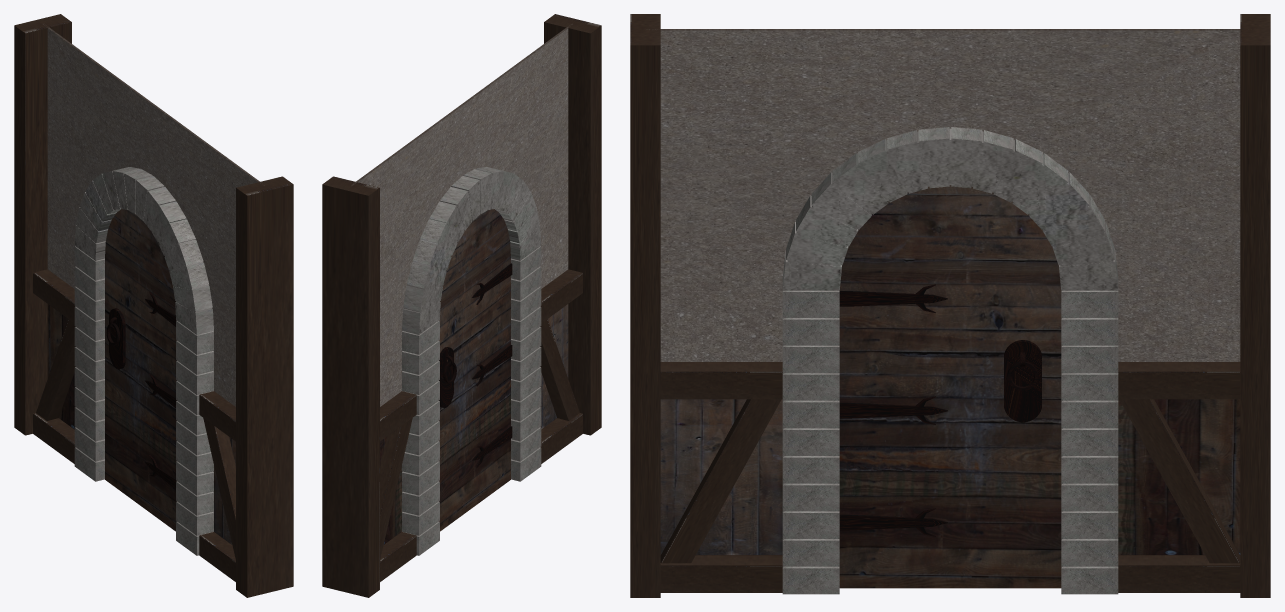
Rendered from OutdoorArchitecture_BasicWall01_Door02_BothEdges_BShortt.fbx.
The picture shows the model from 3 angles, left to right: view 1: azimuth 30°, elevation 25°; view 2: azimuth 150°, elevation 25°; view 3: azimuth 270°, elevation 25°; orthographic projection. The views are drawn at different scales.
Visible parts, largest first — view 1: OutdoorArchitecture_BasicWall01_Door02_BothEdges_BShortt; view 2: OutdoorArchitecture_BasicWall01_Door02_BothEdges_BShortt; view 3: OutdoorArchitecture_BasicWall01_Door02_BothEdges_BShortt.
Boxes of the visible parts, x1,y1,x2,y2 form: OutdoorArchitecture_BasicWall01_Door02_BothEdges_BShortt: (14,14,293,597); OutdoorArchitecture_BasicWall01_Door02_BothEdges_BShortt: (322,14,601,597); OutdoorArchitecture_BasicWall01_Door02_BothEdges_BShortt: (630,14,1270,597).
Bounding box in the file's own units: 36.37 × 300 × 315.
